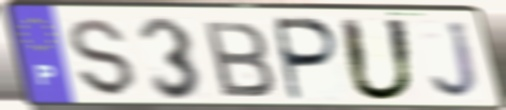3: (137, 15, 204, 103)
B: (200, 19, 279, 99)
J: (428, 19, 484, 103)
P: (274, 15, 344, 104)
S: (67, 17, 140, 100)
U: (336, 15, 421, 104)
